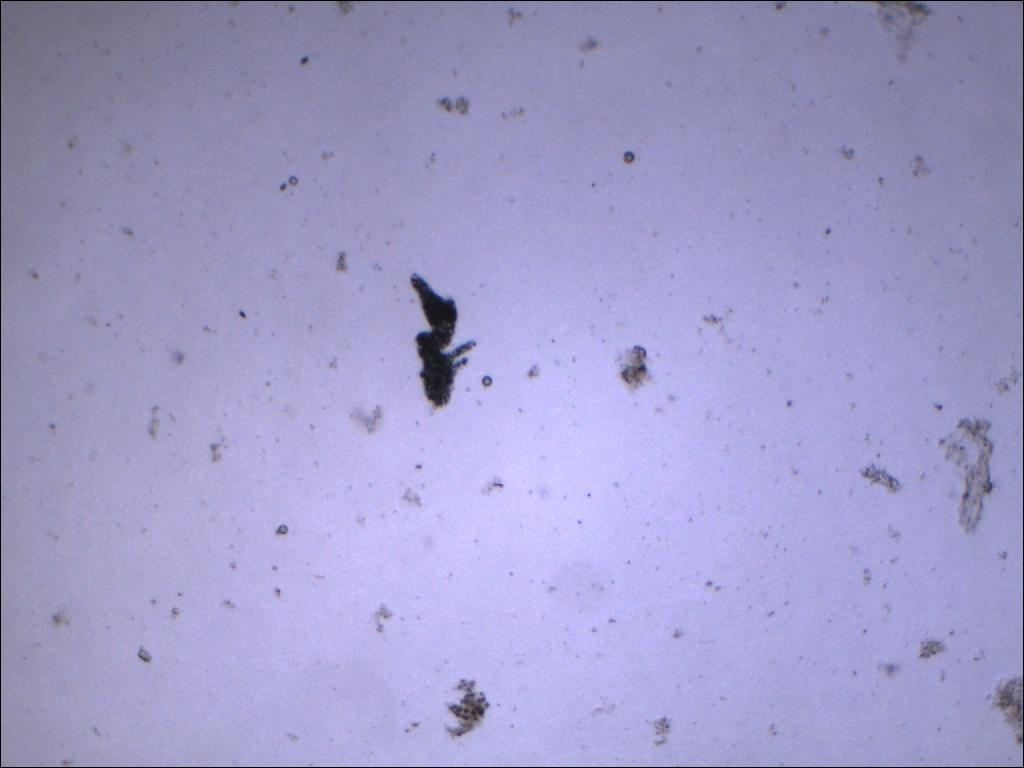amoeba: (401, 265, 480, 417)
